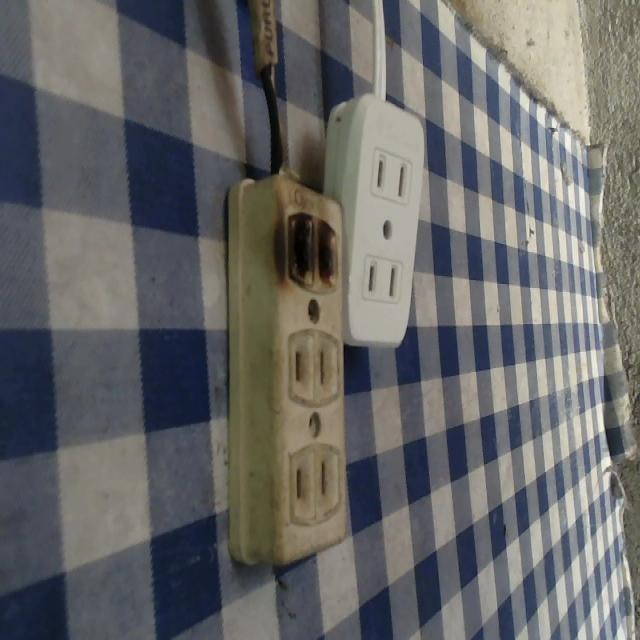-: (272, 199, 344, 296)
